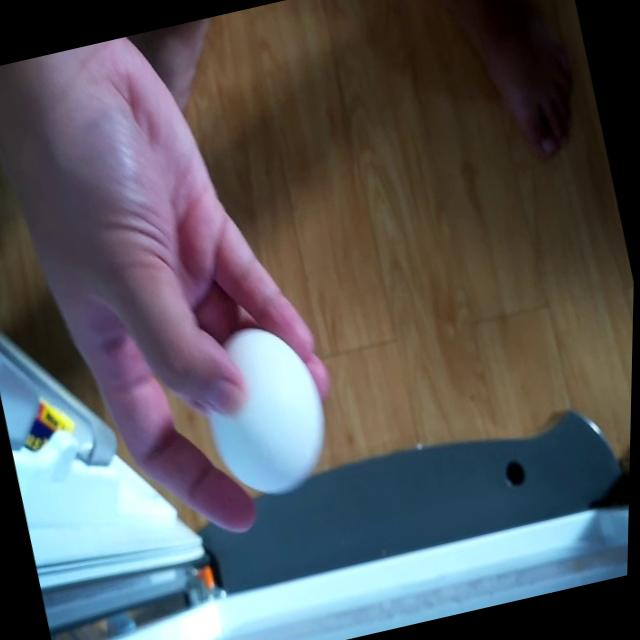egg: (184, 308, 350, 509)
